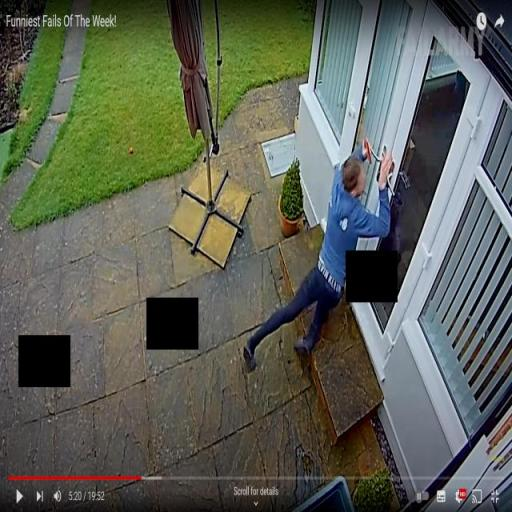Fall: (240, 131, 396, 379)
